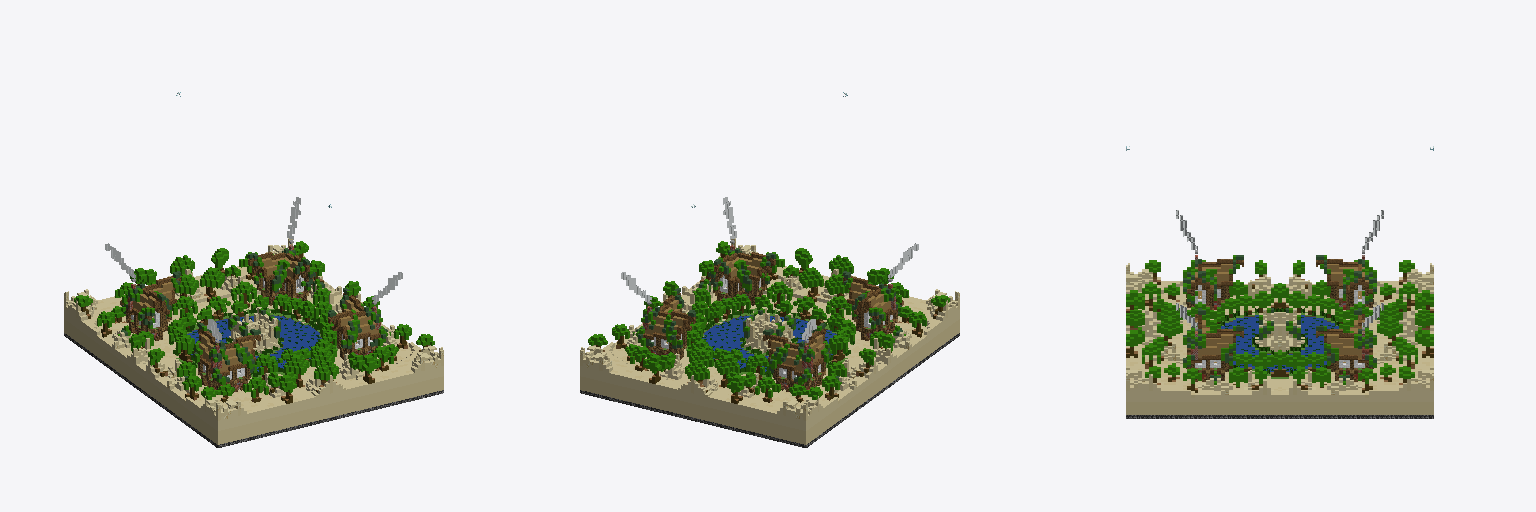
3 renders of one model, left to right at view 1: azimuth 30°, elevation 25°; view 2: azimuth 150°, elevation 25°; view 3: azimuth 270°, elevation 25°, orthographic.
Size of the model in its own units: 70 by 63 by 81.
36 materials, 15 textured.